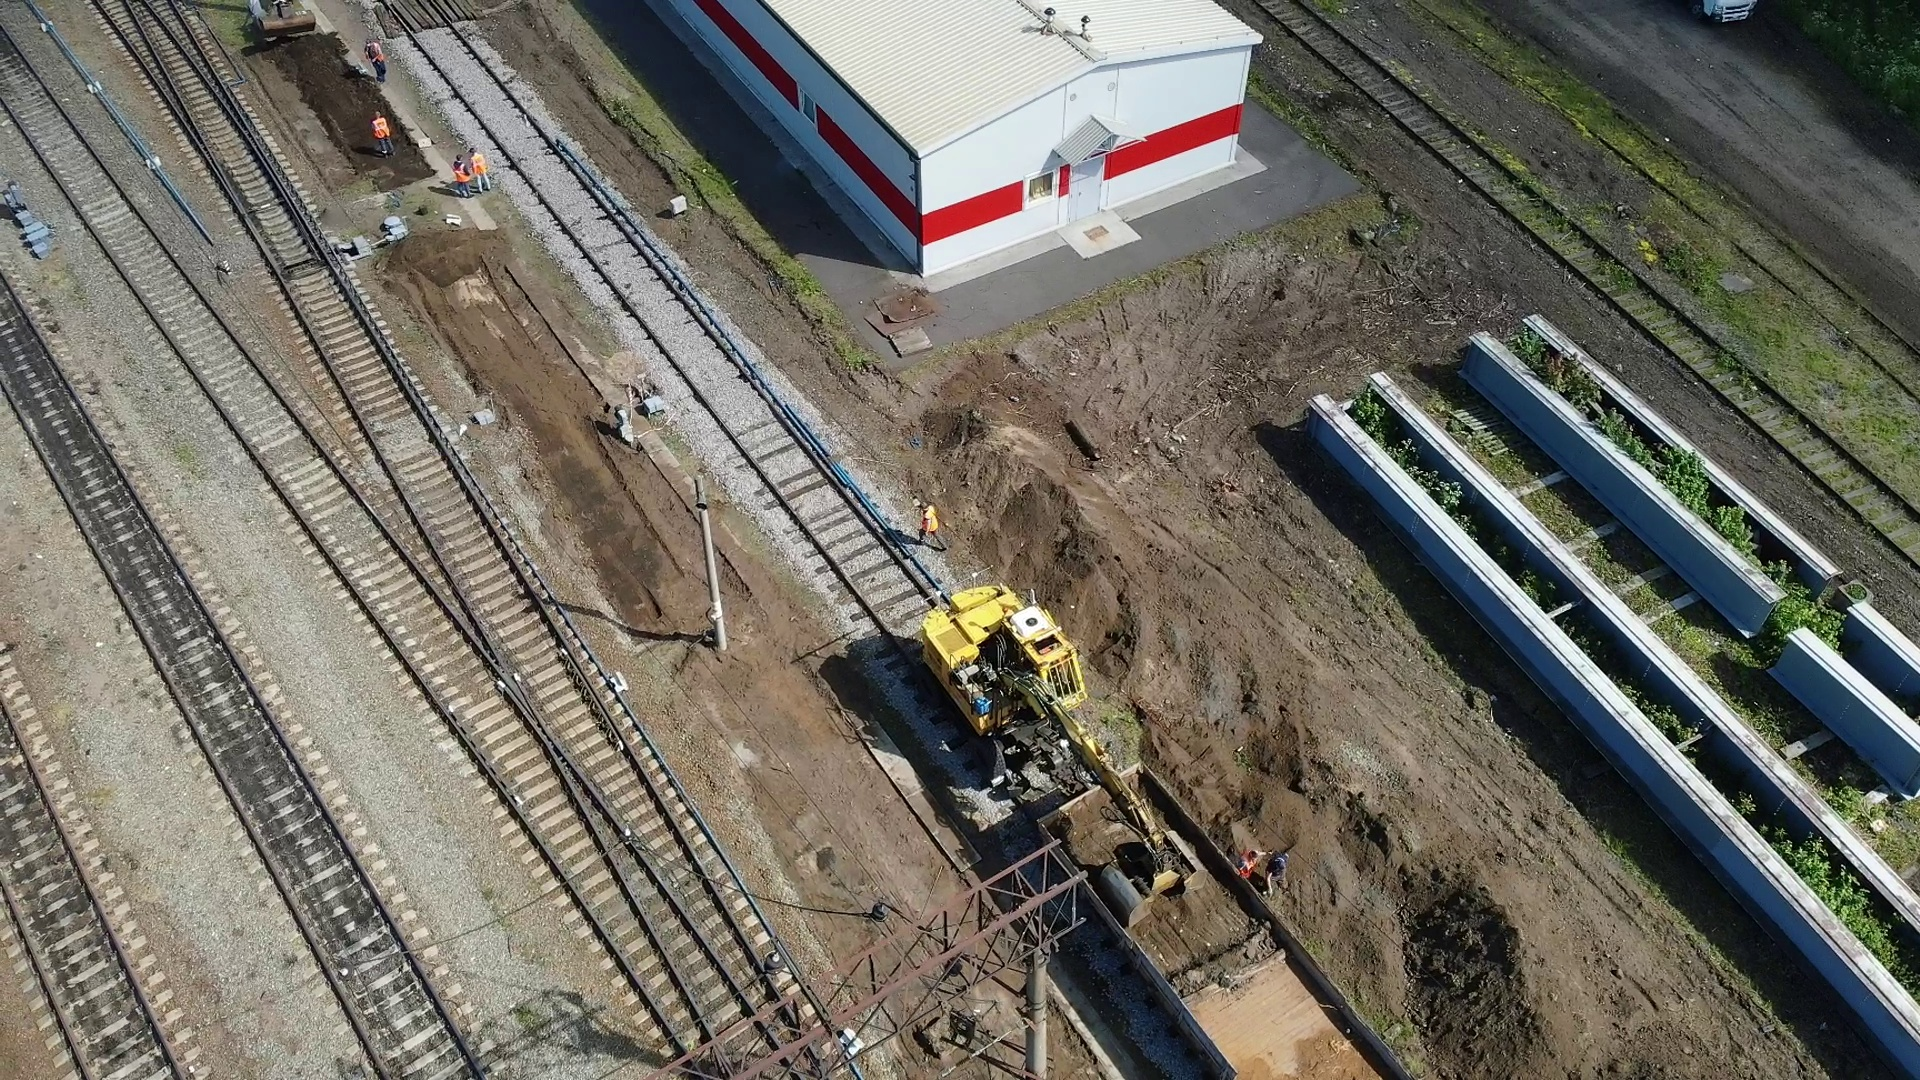kjtv: (925, 583, 1076, 769)
